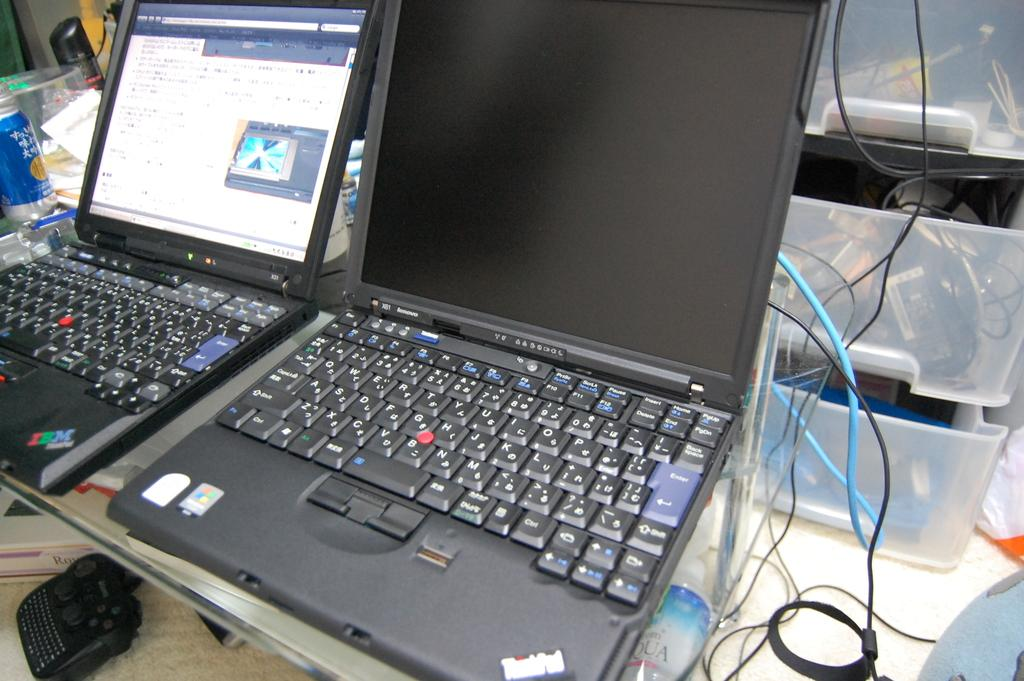Computer-keyboard: (218, 304, 728, 613), (0, 243, 287, 415)
Laptop: (108, 0, 829, 680), (0, 0, 385, 495)
